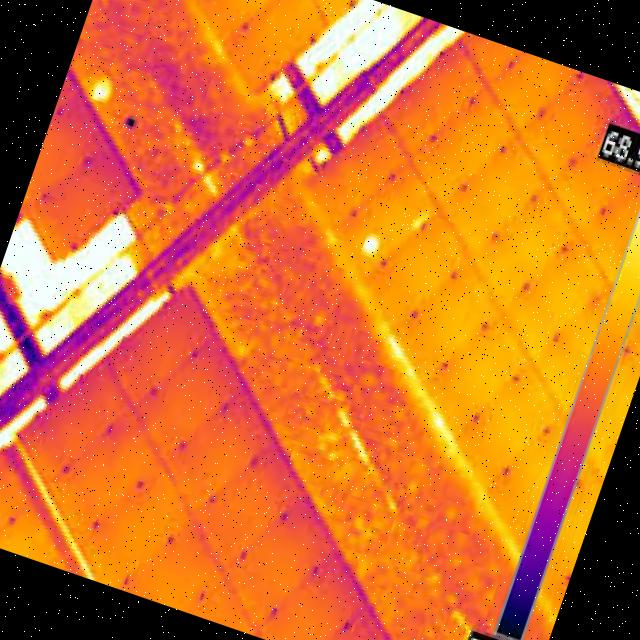Hotspot: (358, 231, 383, 259), (408, 206, 432, 234)
